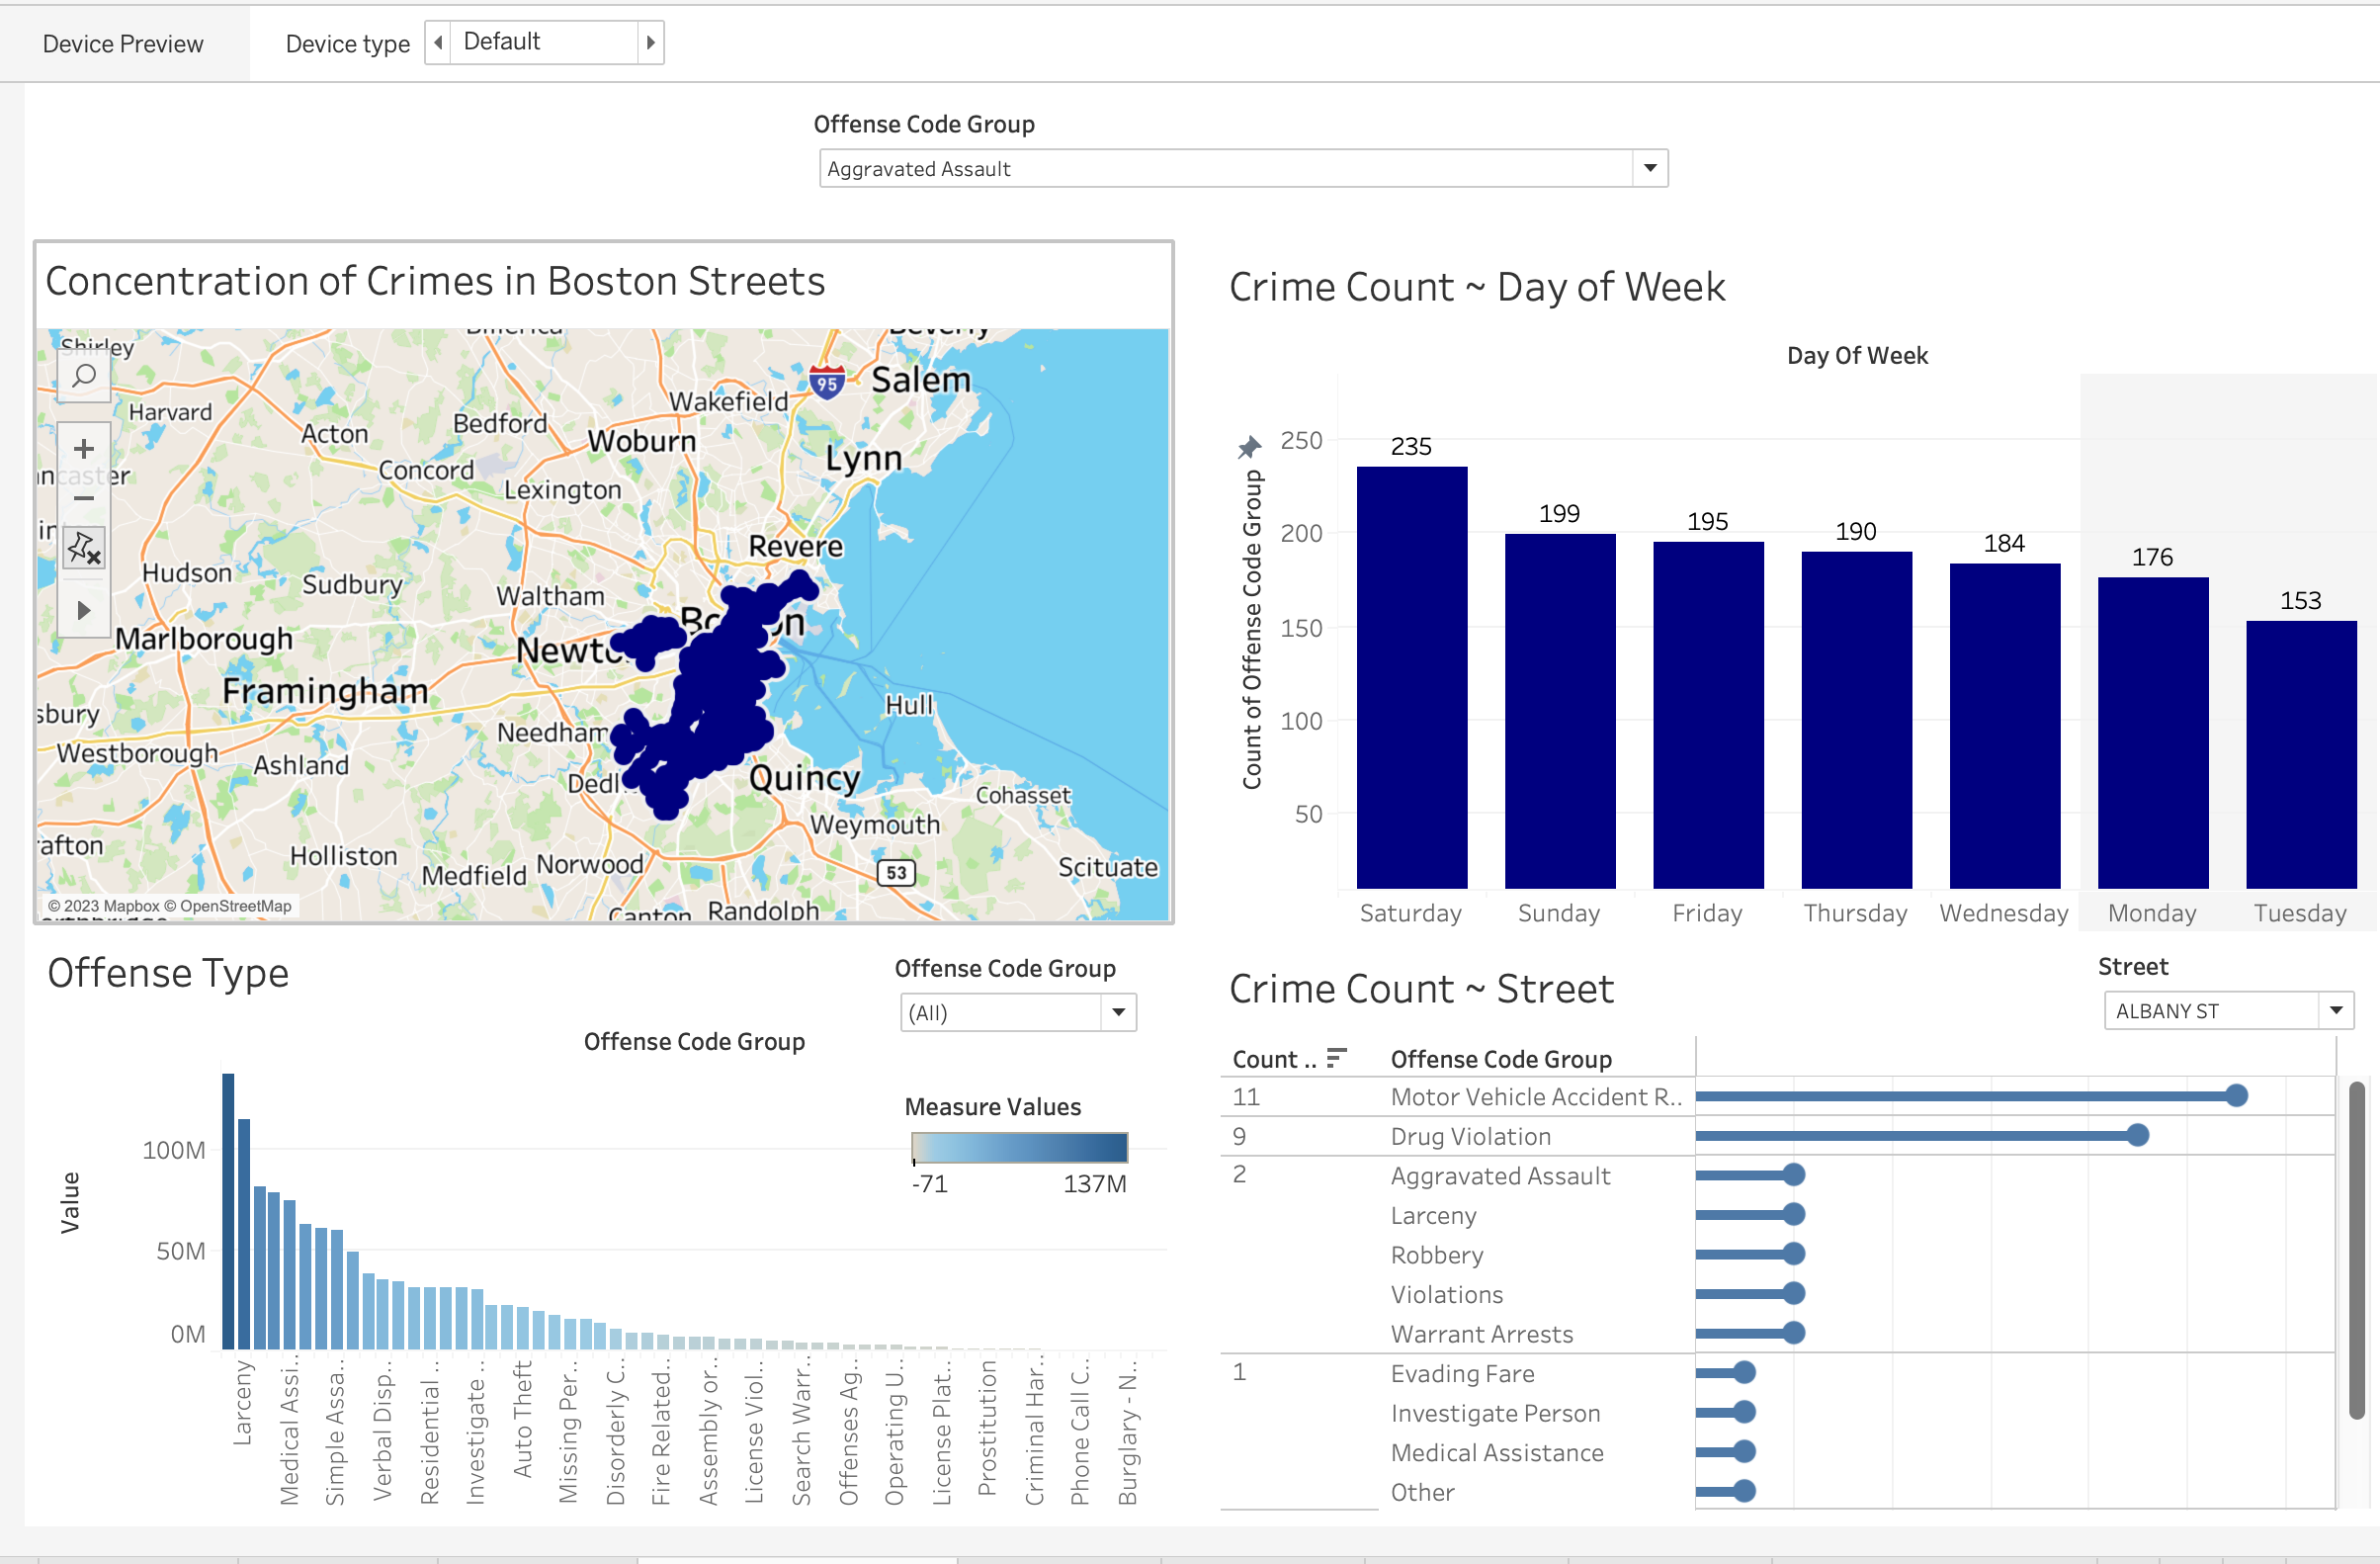

What the dashboard file says about the page in this screenshot:
{"tool":"tableau","page":{"name":"Exploratory Dashbaord","canvas":[1000,1000],"units":"permille","ordinal":1},"visuals":[{"type":"filter","title":"Exploratory_V1","param":"[federated.0di58fr1le9t7a1etw61s1hhy73u].[none:OFFENSE_CODE_GROUP:nk]","box":[332.7,16,363.3,97.1]},{"type":"worksheet","title":"Exploratory_V1","mark":"Automatic","rows":["Lat"],"cols":["Long"],"box":[5,110.4,478.2,470.7]},{"type":"worksheet","title":"Exploratory_V2","mark":"Automatic","rows":["OFFENSE_CODE_GROUP"],"cols":["DAY_OF_WEEK"],"box":[503.8,115.7,487.5,472.1]},{"type":"worksheet","title":"Exploratory_V4","mark":"Automatic","cols":["OFFENSE_CODE_GROUP"],"box":[5.6,590.4,475.7,397.6]},{"type":"filter","title":"Exploratory_V3","param":"[federated.0di58fr1le9t7a1etw61s1hhy73u].[none:STREET:nk]","box":[874.5,599.7,110.5,86.4]},{"type":"filter","title":"Exploratory_V4","param":"[federated.0di58fr1le9t7a1etw61s1hhy73u].[none:OFFENSE_CODE_GROUP:nk]","box":[366.4,601.1,104.9,93.1]},{"type":"worksheet","title":"Exploratory_V3","mark":"Bar","rows":["OFFENSE_CODE_GROUP","OFFENSE_CODE_GROUP"],"cols":["OFFENSE_CODE_GROUP","OFFENSE_CODE_GROUP"],"box":[503.8,601.1,485,388.3]},{"type":"legend","title":"Exploratory_V4","param":"[federated.0di58fr1le9t7a1etw61s1hhy73u].[Multiple Values]","box":[370.8,696.8,98.6,101.1]}]}

Visuals, with their boxes on the dashboard's canvas, which has no fixed pixel size, in thousandths of its width and height (x1, y1, x2, y2). These are canvas units, not pixel positions in the 2380x1564 screenshot, which may show the page scaled, cropped or inside an application window:
"Exploratory_V1" filter: crop(333, 16, 696, 113)
"Exploratory_V1" worksheet: crop(5, 110, 483, 581)
"Exploratory_V2" worksheet: crop(504, 116, 991, 588)
"Exploratory_V4" worksheet: crop(6, 590, 481, 988)
"Exploratory_V3" filter: crop(874, 600, 985, 686)
"Exploratory_V4" filter: crop(366, 601, 471, 694)
"Exploratory_V3" worksheet (Bar marks): crop(504, 601, 989, 989)
"Exploratory_V4" legend: crop(371, 697, 469, 798)
